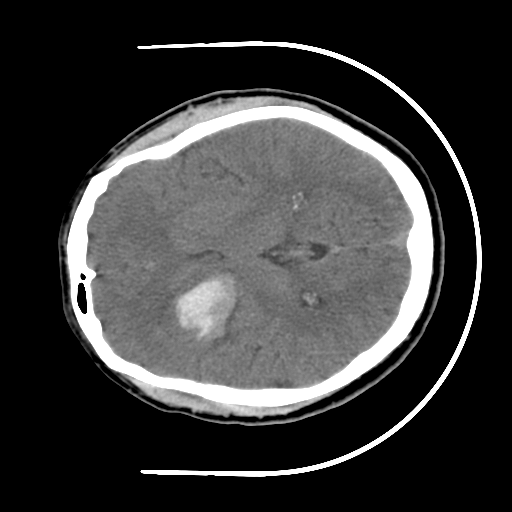a: (149, 258, 253, 360)
